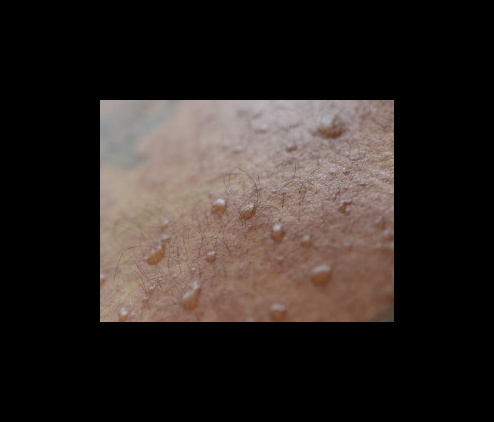SJS-TEN: (99, 98, 394, 323)
